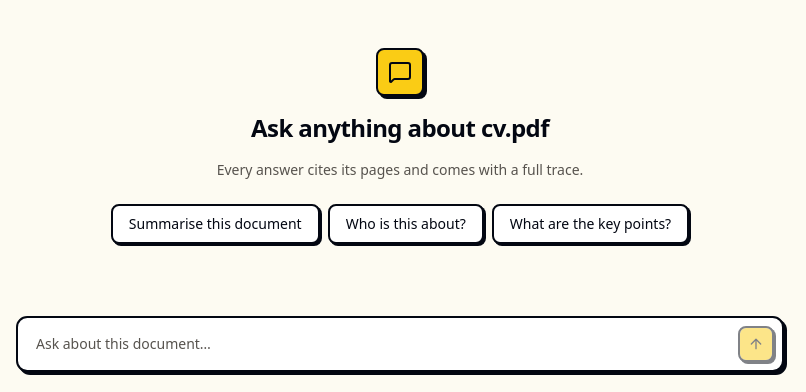
Scenario: answer transparency › footer shows tokens and cost
The image size is (806, 392).
Type "q" into the text box labelled "Ask about this document" at coordinates (378, 344), box [26,326,730,362]
Then press Enter
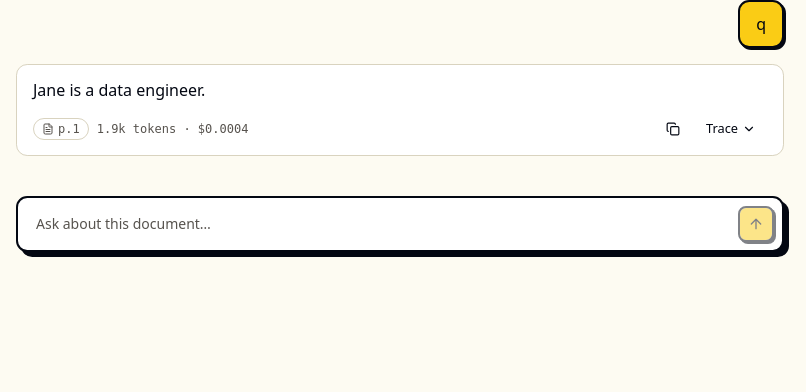
Expected: the text "1.9k tokens · $0.0004" is shown, [97,121,248,137]
